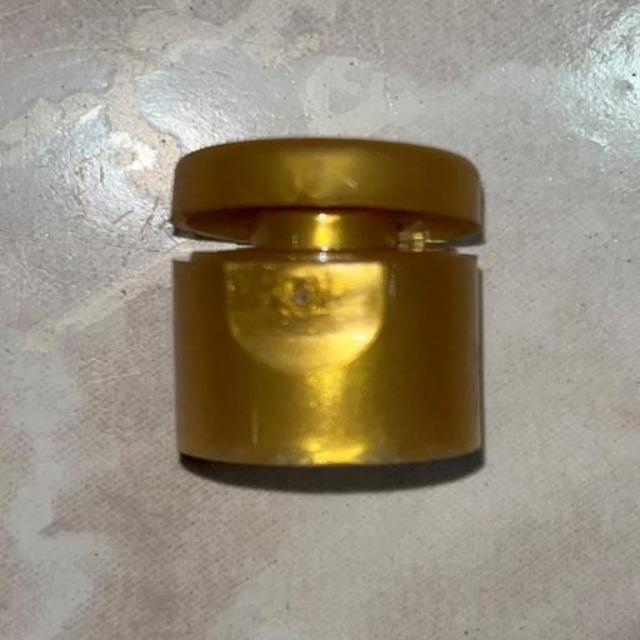HDPE: (83, 111, 553, 536)
